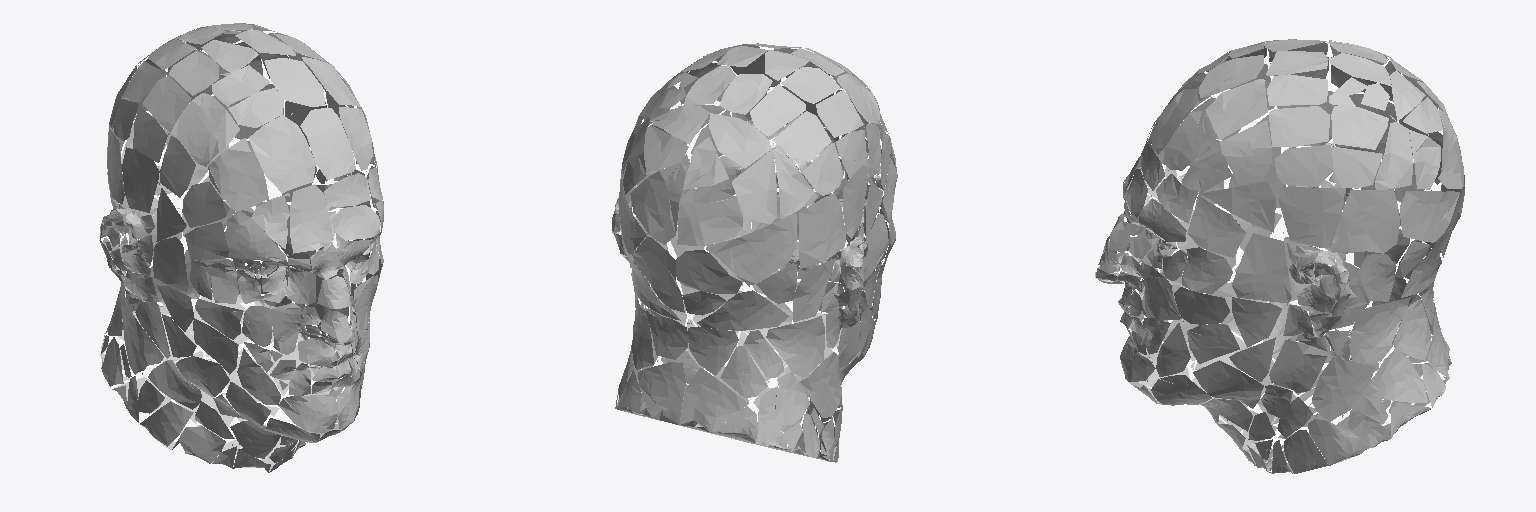
Rendered from test_mesh_retopo.obj.
The picture shows the model from 3 angles: view 1: azimuth 30°, elevation 25°; view 2: azimuth 150°, elevation 25°; view 3: azimuth 270°, elevation 25°; orthographic projection.
Size of the model in its own units: 120 by 190 by 155.